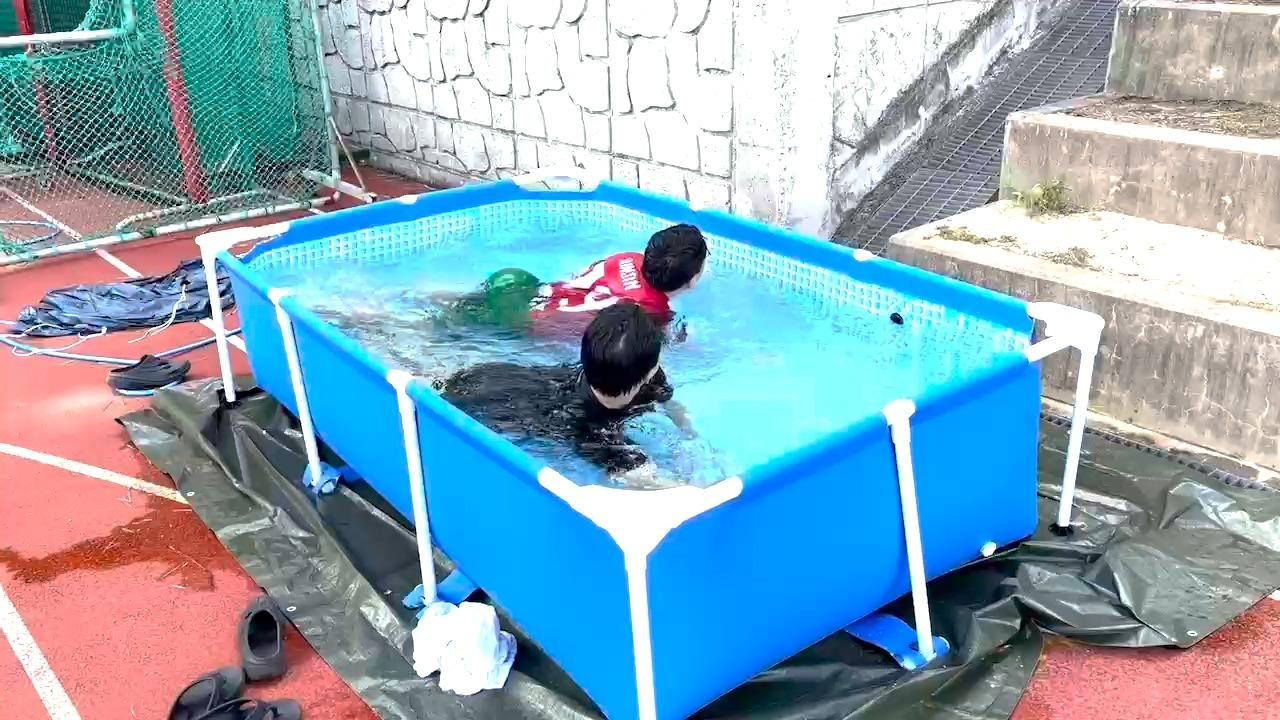Swimming: (311, 318, 733, 491), (345, 253, 752, 325)
